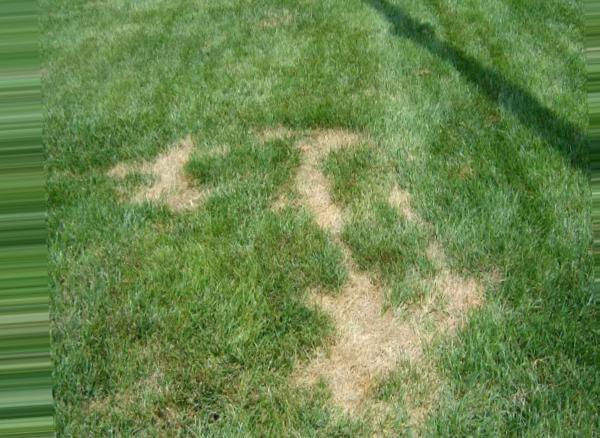patch: (324, 285, 395, 387), (426, 250, 467, 326), (136, 153, 195, 205), (300, 141, 330, 221), (403, 323, 419, 355)
